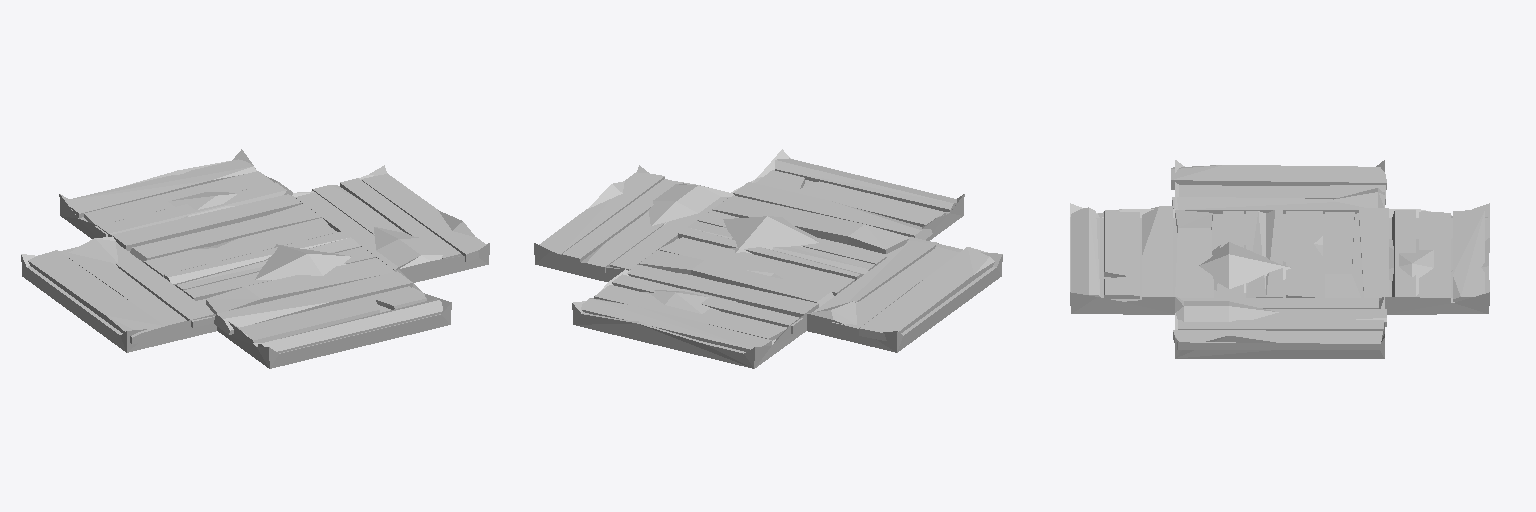
The model's file is aWoodRoad2.obj.
3 renders of one model, left to right at view 1: azimuth 30°, elevation 25°; view 2: azimuth 150°, elevation 25°; view 3: azimuth 270°, elevation 25°, orthographic.
Parts seen in each view (by area): view 1: Road_wood_3_Mesh.058; view 2: Road_wood_3_Mesh.058; view 3: Road_wood_3_Mesh.058.
Part boxes in pixels (bbox=[...]): Road_wood_3_Mesh.058: bbox=[21, 149, 489, 368]; Road_wood_3_Mesh.058: bbox=[534, 149, 1002, 368]; Road_wood_3_Mesh.058: bbox=[1070, 160, 1489, 358].
Size of the model in its own units: 6.04 by 0.4638 by 6.02.